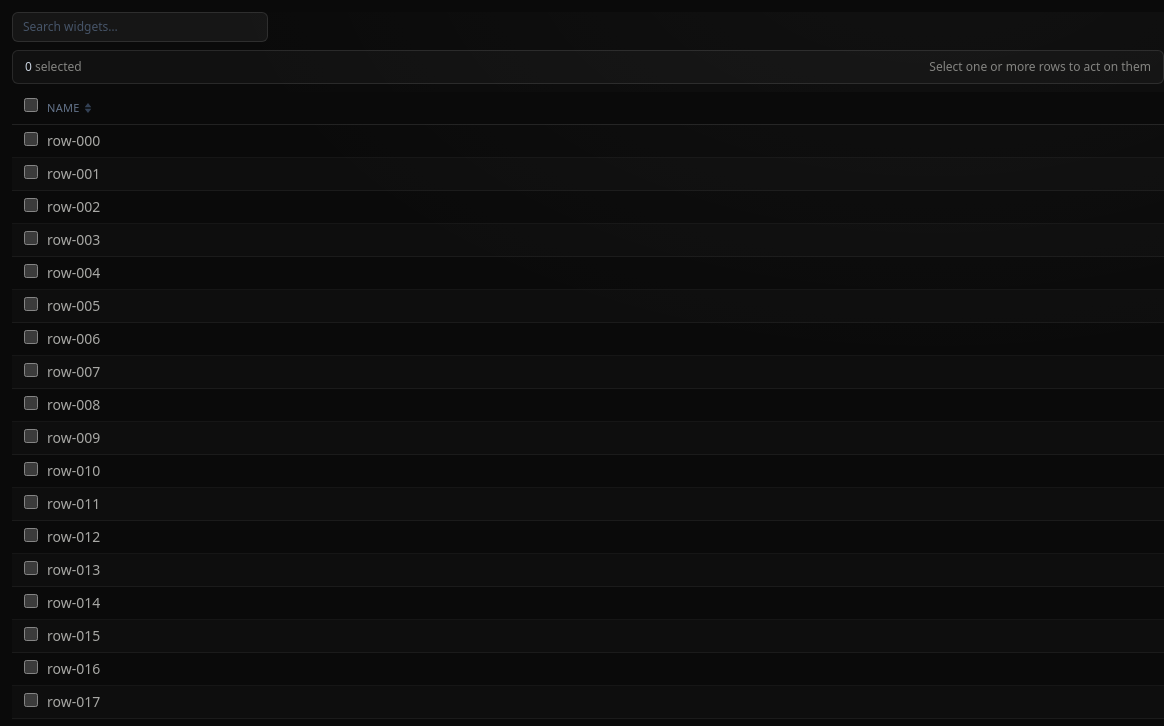
DataTable — selection › ⭐ THE HEADER CHECKBOX SELECTS THE PAGE, NEVER THE WHOLE RESULT SET
This screenshot has width=1164, height=726.
Click the checkbox named "Select all 25 on this page": {"x": 31, "y": 105} [24, 98, 38, 112]
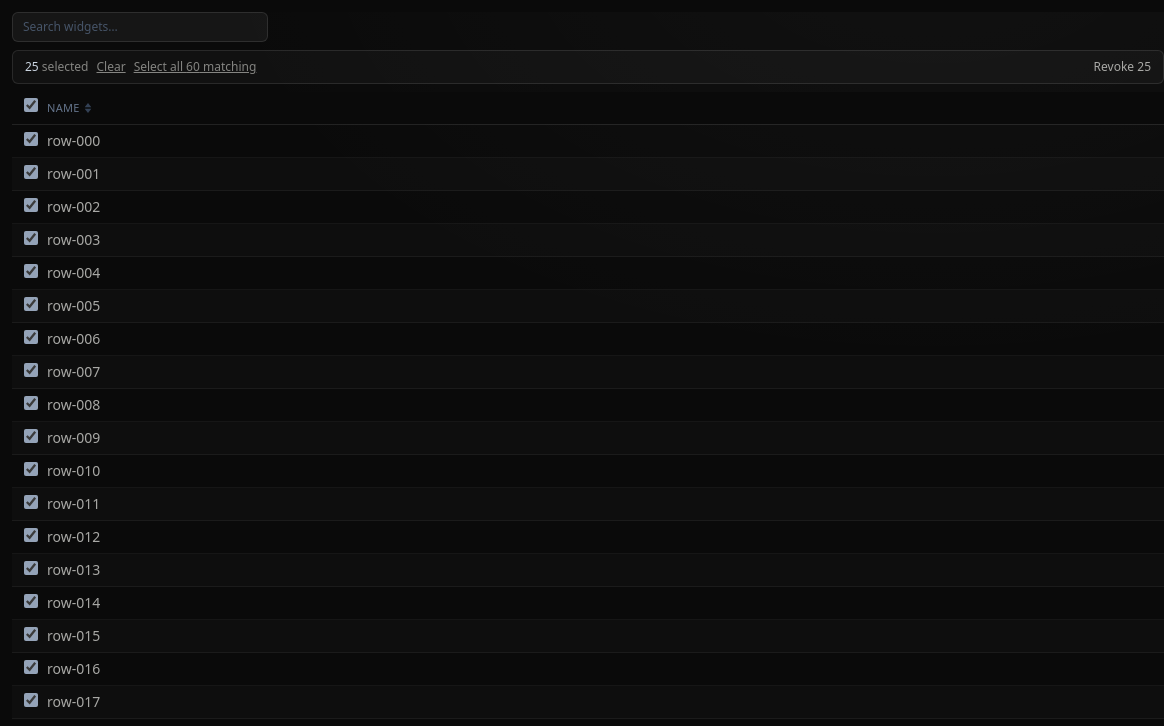
Check: the text "selected" shows "25 selected", box [25, 59, 256, 75]
